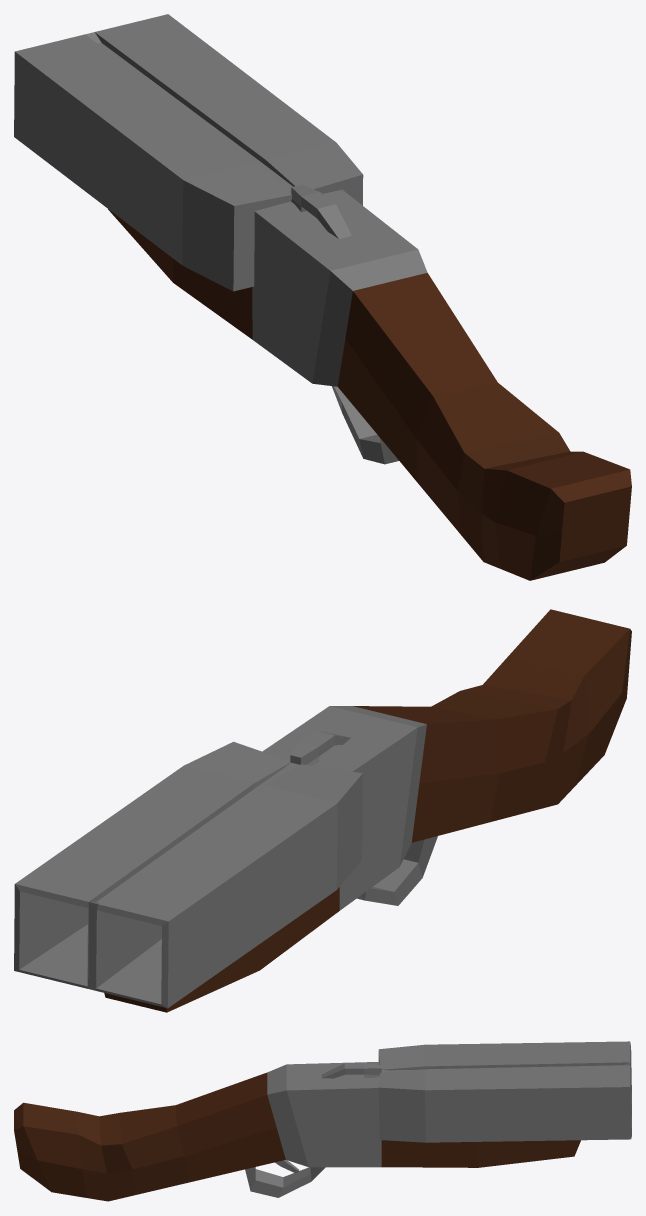
File: Shotgun.fbx
3 renders of one model, top to bottom at view 1: azimuth 30°, elevation 25°; view 2: azimuth 150°, elevation 25°; view 3: azimuth 270°, elevation 25°, orthographic. The views are drawn at different scales.
Parts seen in each view (by area): view 1: Cube; view 2: Cube; view 3: Cube.
Part boxes in pixels (left/top/right/bottom): Cube: left=14, top=14, right=631, bottom=580; Cube: left=14, top=609, right=631, bottom=1012; Cube: left=14, top=1041, right=631, bottom=1201.
Size of the model in its own units: 75.51 by 99.05 by 433.
